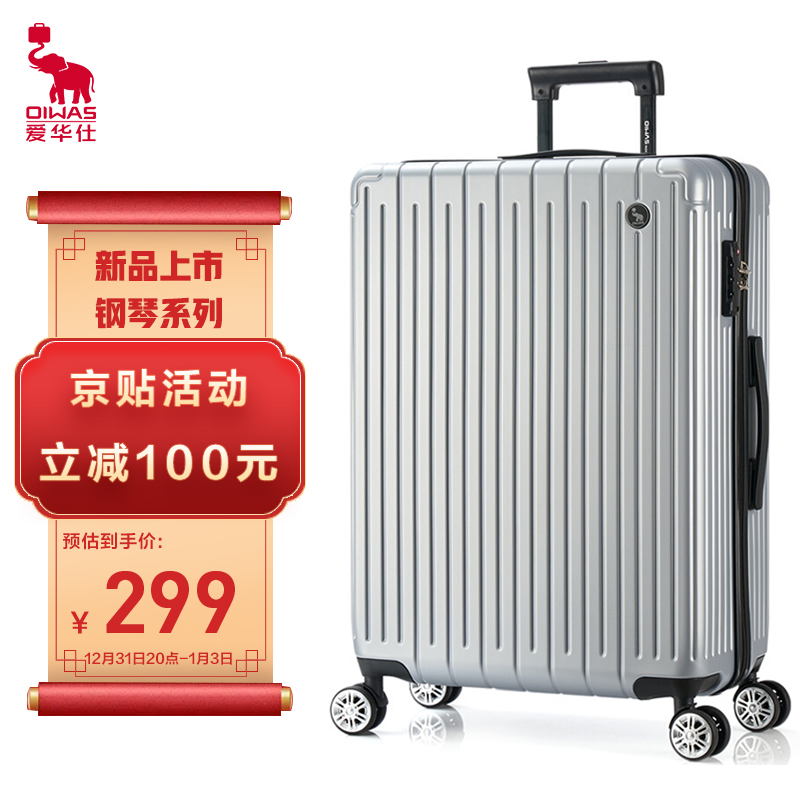box: (351, 158, 771, 699)
handle: (744, 336, 769, 510), (498, 149, 652, 160)
lock: (721, 240, 750, 317)
wheel: (669, 705, 731, 762), (329, 684, 387, 736), (733, 680, 791, 732), (409, 679, 462, 709)
